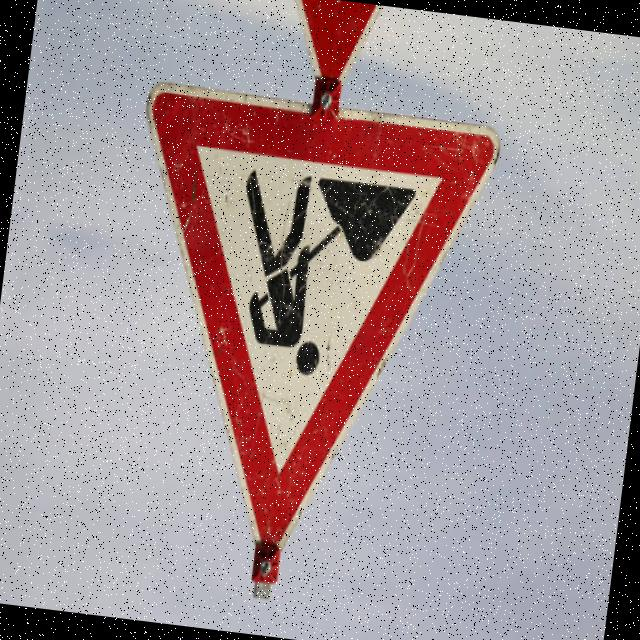road_work: (93, 73, 504, 574)
